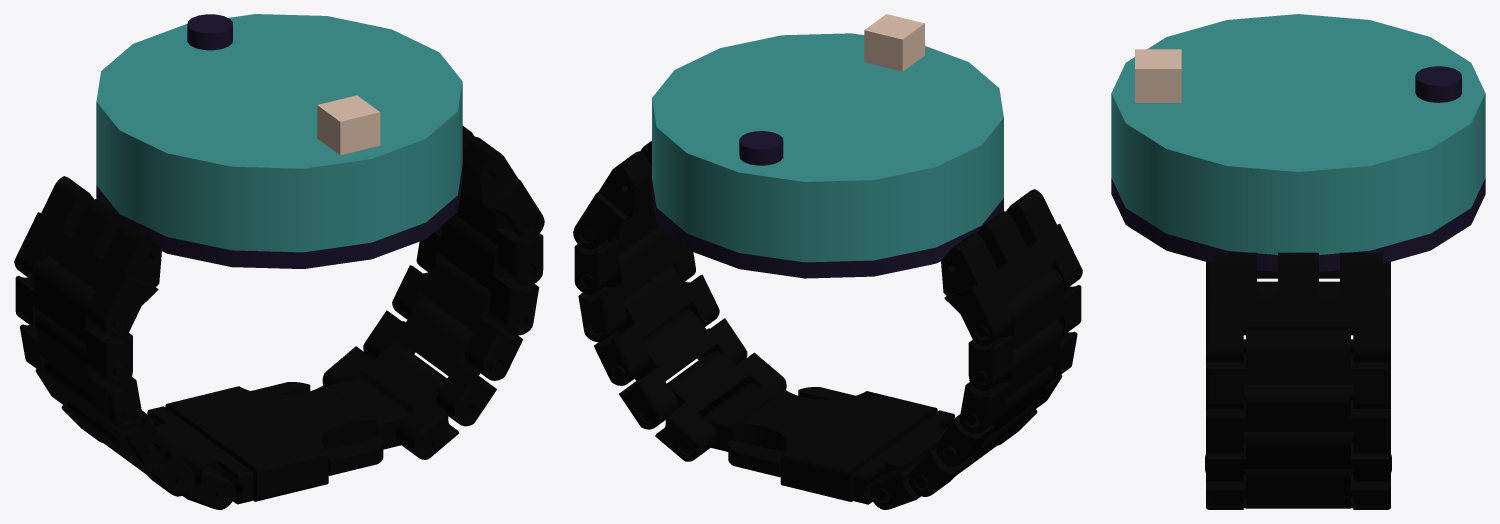
Rendered from droneWatch_blender_recolhidos.glb.
3 views of the same model, side by side, from view 1: azimuth 30°, elevation 25°; view 2: azimuth 150°, elevation 25°; view 3: azimuth 270°, elevation 25° (orthographic). The views are drawn at different scales.
Parts seen in each view (by area): view 1: Mesh_8, Mesh_0, Mesh_7, Mesh_2, Mesh_1; view 2: Mesh_8, Mesh_0, Mesh_7, Mesh_2, Mesh_1; view 3: Mesh_0, Mesh_8, Mesh_7, Mesh_2, Mesh_1.
Boxes of the visible parts, x1,y1,x2,y2 form: Mesh_8: (14, 126, 544, 509); Mesh_0: (96, 14, 462, 252); Mesh_7: (96, 165, 462, 268); Mesh_2: (317, 95, 380, 155); Mesh_1: (187, 14, 232, 50); Mesh_8: (573, 140, 1082, 509); Mesh_0: (652, 33, 1003, 262); Mesh_7: (652, 179, 1003, 278); Mesh_2: (864, 14, 924, 71); Mesh_1: (739, 131, 783, 165); Mesh_0: (1111, 14, 1485, 254); Mesh_8: (1205, 252, 1391, 509); Mesh_7: (1111, 178, 1485, 271); Mesh_2: (1135, 49, 1181, 102); Mesh_1: (1415, 66, 1461, 102).
Bounding box in the file's own units: 5.49 × 4.72 × 4.
